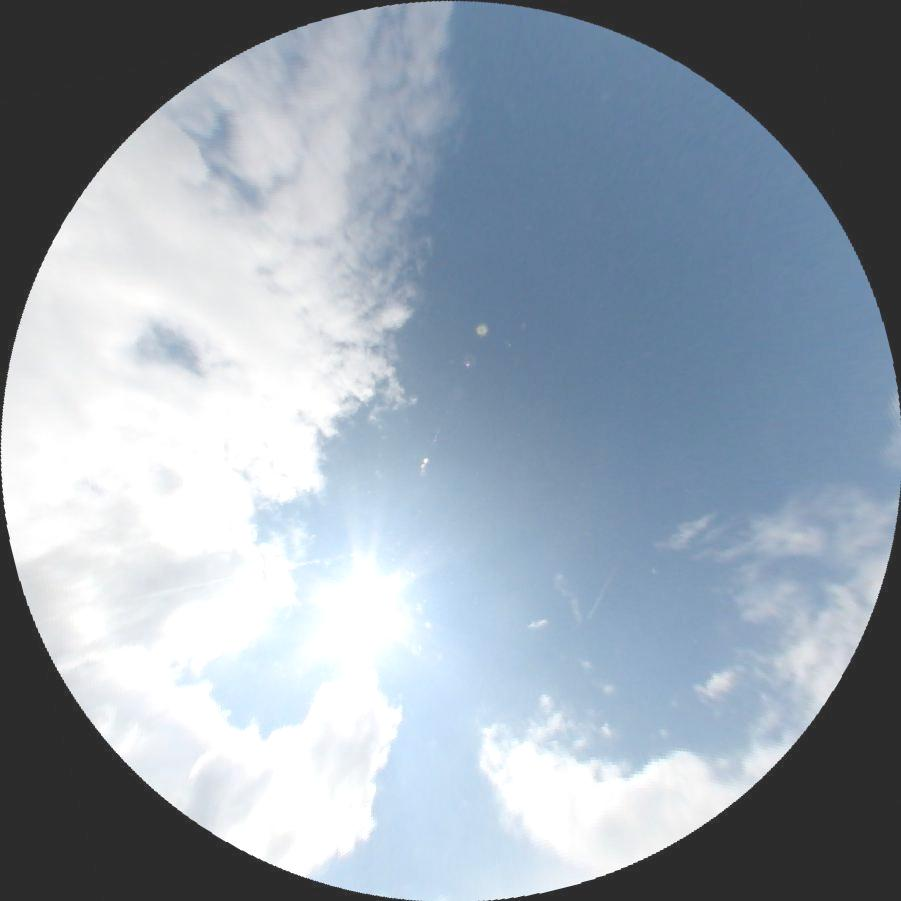contrail young: (586, 566, 614, 619)
parasite: (96, 555, 320, 609)
sun: (337, 584, 392, 629)
